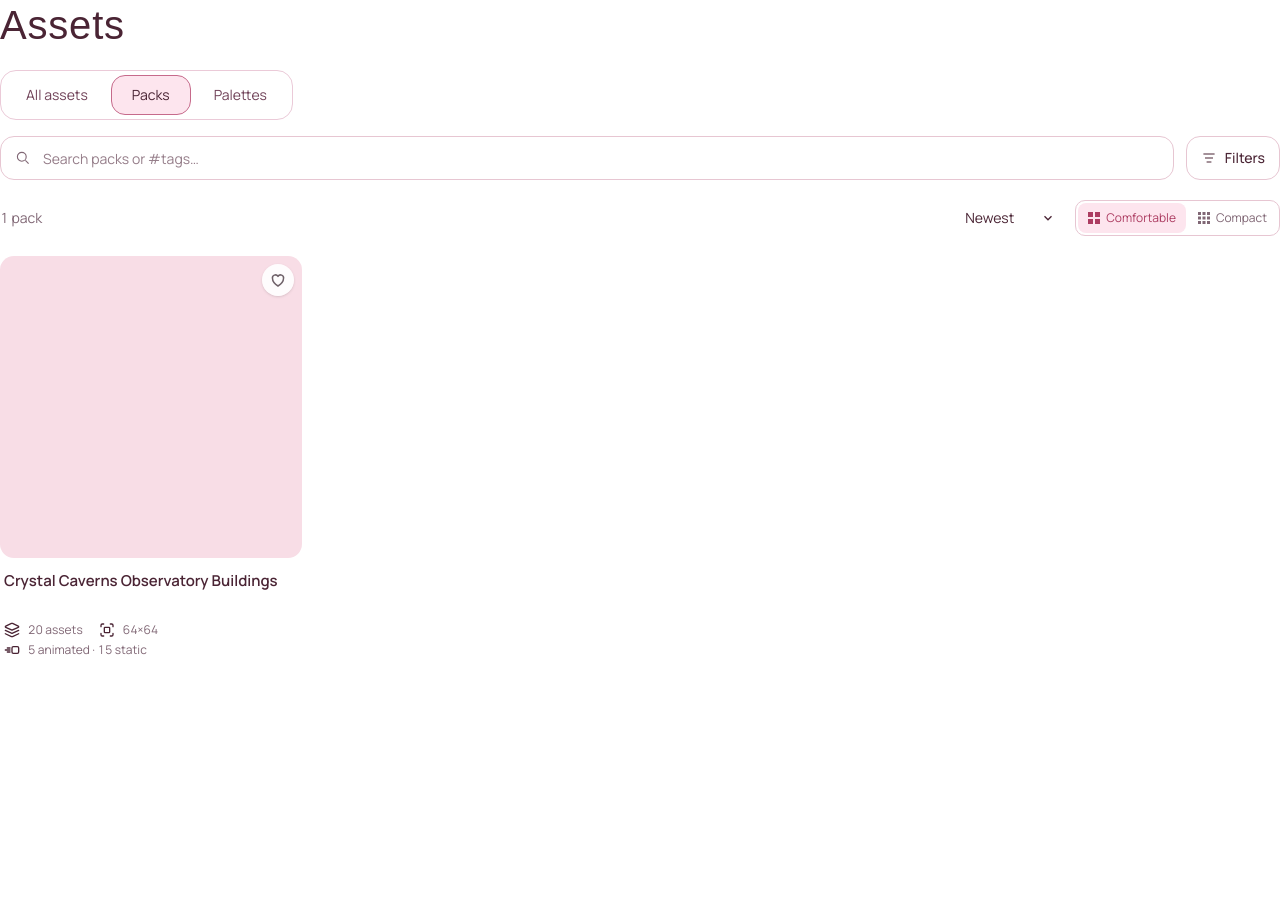
Test: drafts filters in a modal and applies matching results only when confirmed
Step 1. Click the button "Filters" → click(1233, 158), box top-left (1186, 136), bottom-right (1279, 180)
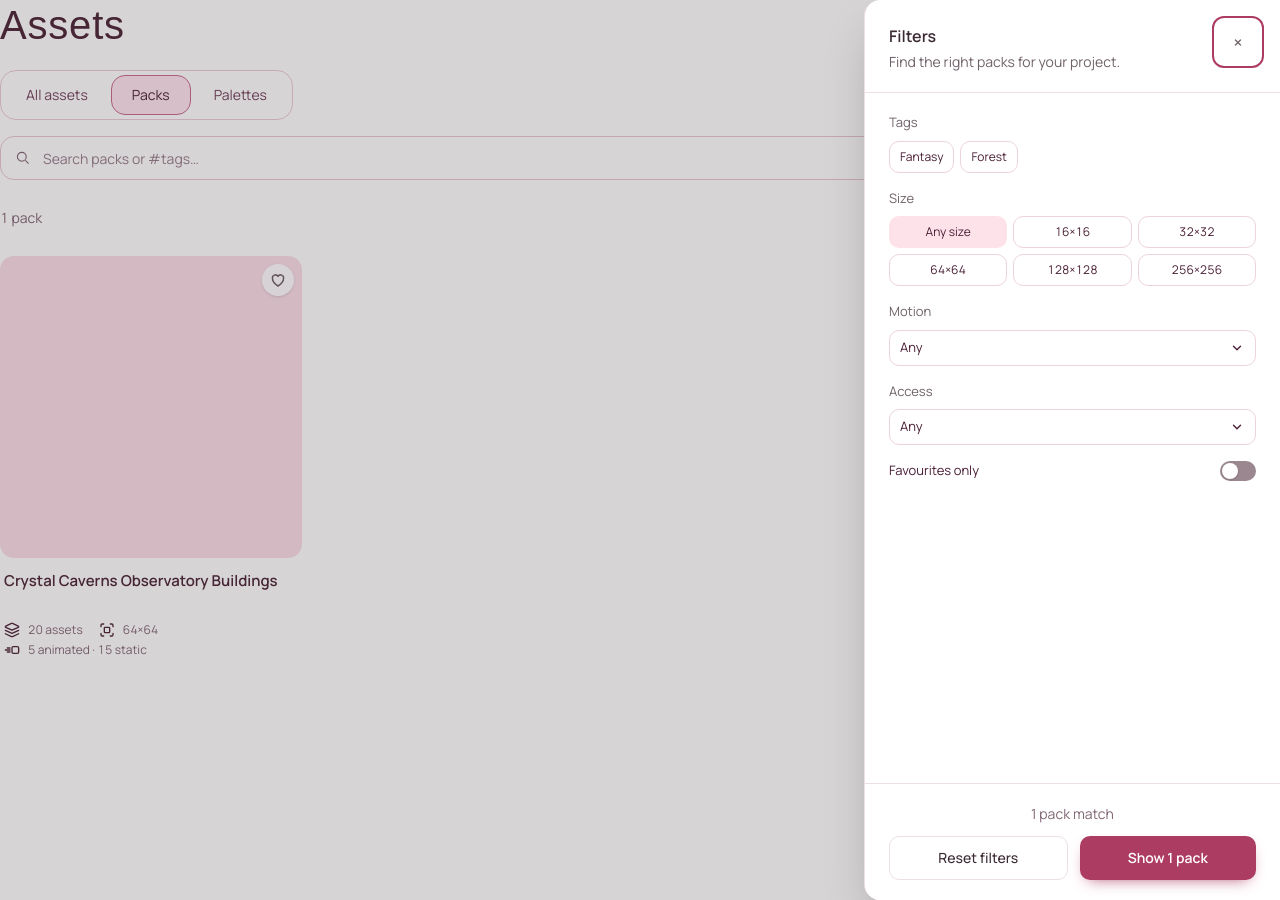
Step 2. Select "Premium" in the dropdown named "Access" → (1072, 427), box top-left (889, 409), bottom-right (1256, 445)
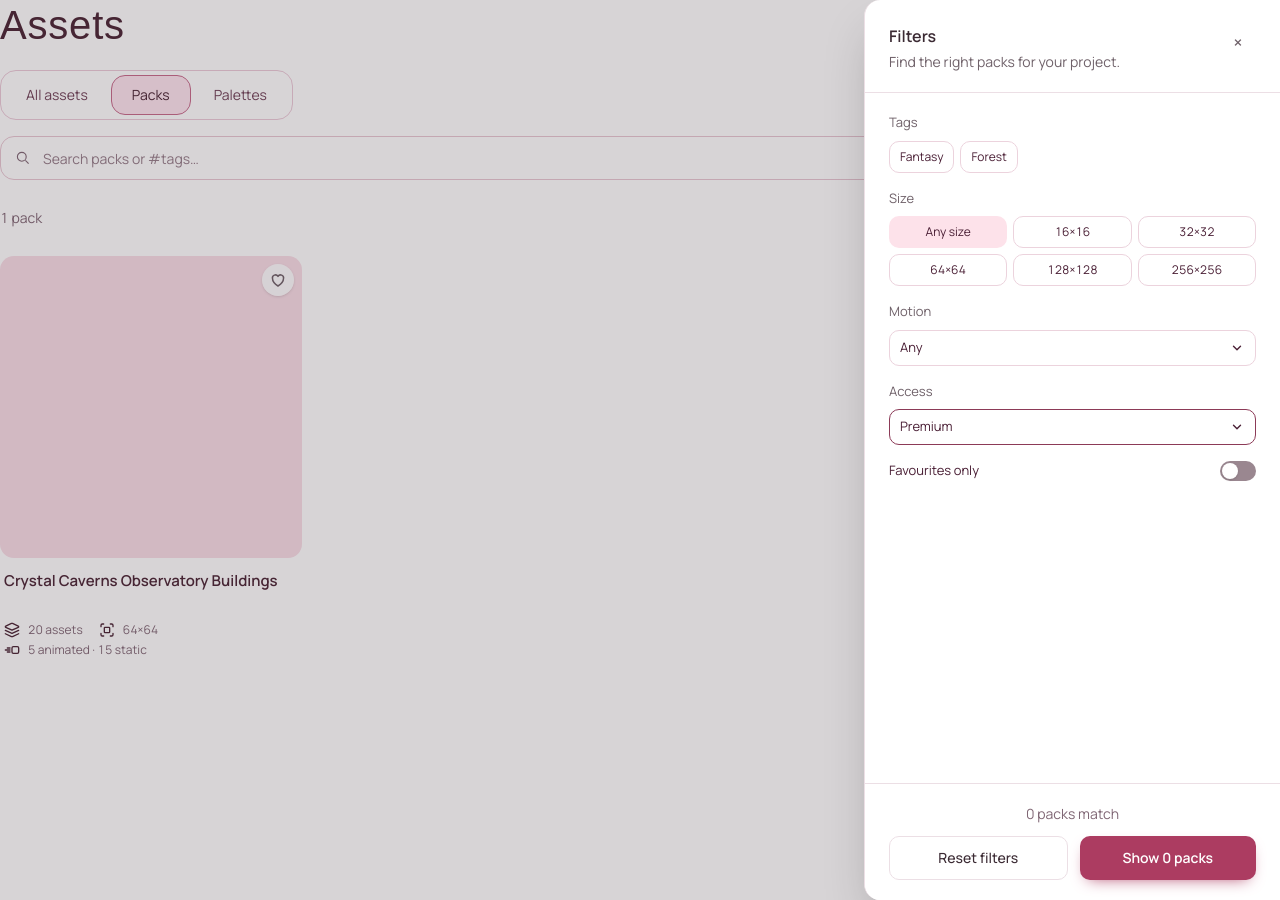
Expected: the link "Crystal Caverns" is shown, top-left (0, 256), bottom-right (302, 660)
Expected: the button "Show 0 packs" is enabled
Step 3. Click the button "Show 0 packs" → click(1168, 858), box top-left (1080, 836), bottom-right (1256, 880)
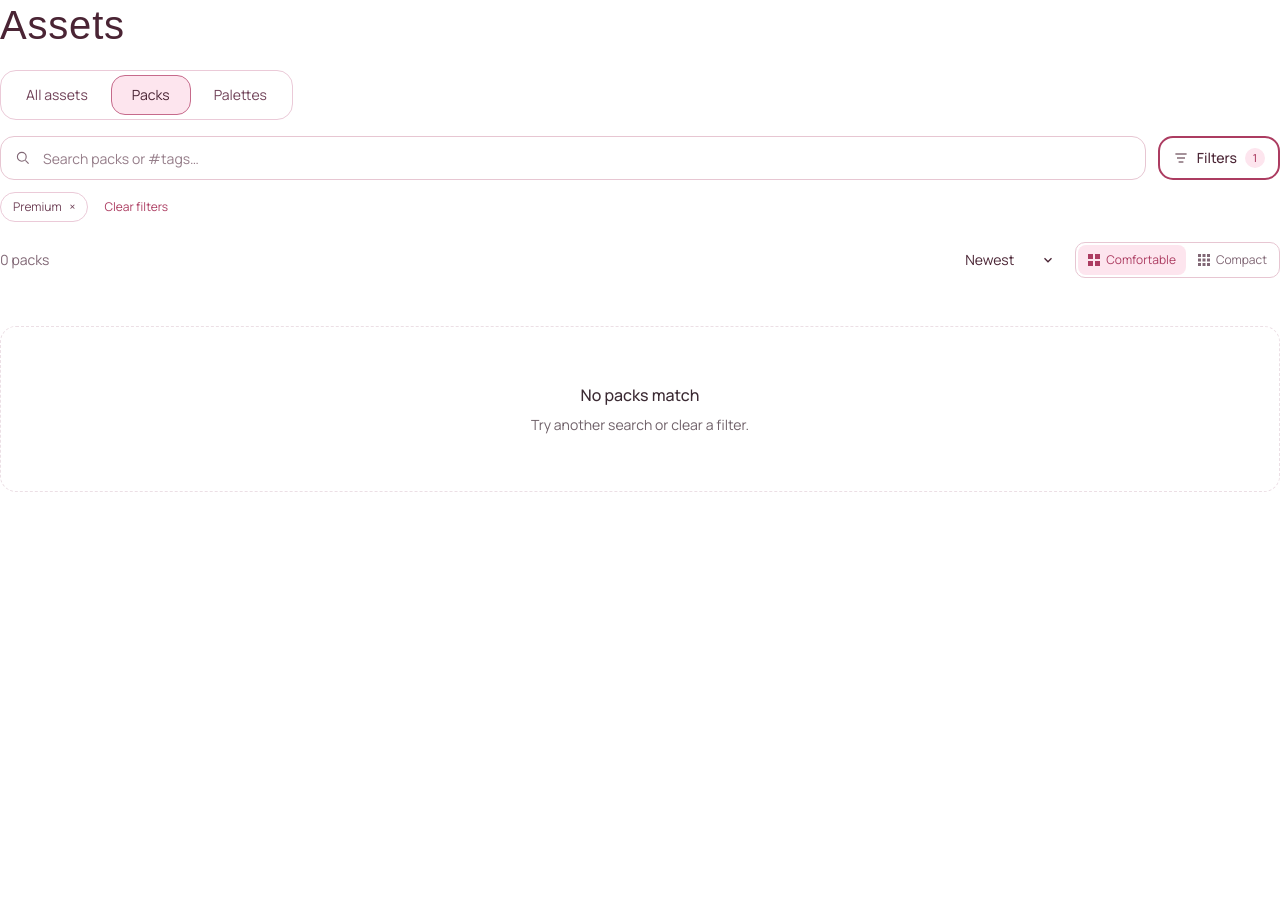
Expected: the dialog is gone
Expected: the text "No packs match" is shown, top-left (580, 384), bottom-right (699, 406)
Step 4. Click the button with aria-label "Remove Premium filter" → click(44, 207), box top-left (0, 192), bottom-right (88, 222)
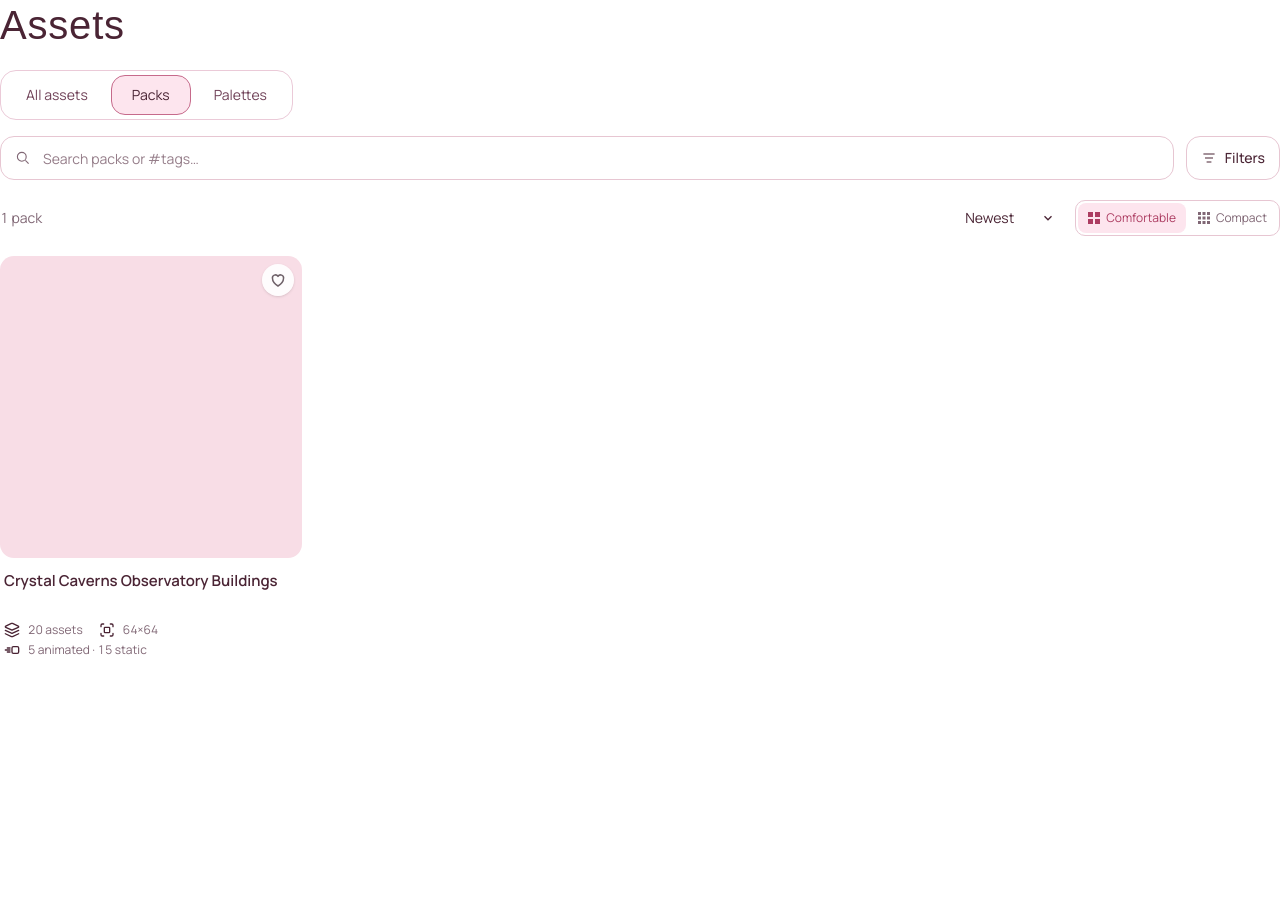
Expected: the link "Crystal Caverns" is shown, top-left (0, 256), bottom-right (302, 660)
